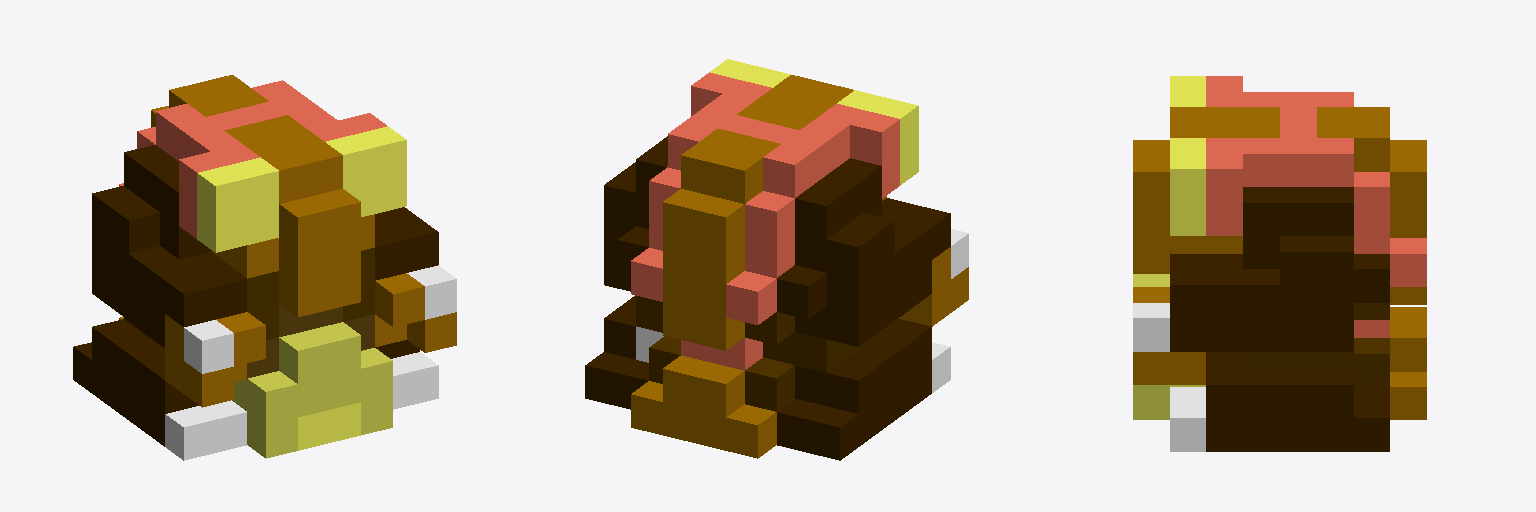
3 views of the same model, side by side, from view 1: azimuth 30°, elevation 25°; view 2: azimuth 150°, elevation 25°; view 3: azimuth 270°, elevation 25° (orthographic).
Parts seen in each view (by area): view 1: Cuboid_1; view 2: Cuboid_1; view 3: Cuboid_1.
Boxes of the visible parts, box(x1,y1,x2,y2) form: Cuboid_1: box(73, 75, 456, 460); Cuboid_1: box(585, 59, 968, 460); Cuboid_1: box(1133, 76, 1426, 451).
Bounding box in the file's own units: 8 × 8 × 8.
Materials: 1 (1 with a texture image).